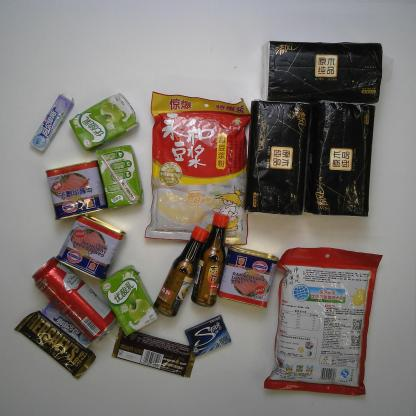Alcohol: (30, 256, 118, 343)
Candy: (28, 92, 75, 152), (41, 301, 92, 349)
Canned Food: (54, 213, 126, 281), (216, 244, 280, 309), (44, 160, 108, 221)
Chocolate: (13, 310, 96, 380), (110, 326, 196, 379)
Gum: (184, 314, 232, 358)
Instant Drink: (262, 246, 384, 397), (143, 94, 252, 246)
Milk: (98, 264, 160, 337), (69, 92, 140, 152), (95, 144, 144, 209)
Seasoner: (153, 225, 210, 319), (190, 212, 230, 309)
Tissue: (301, 98, 376, 218), (243, 98, 314, 216), (260, 38, 384, 104)
